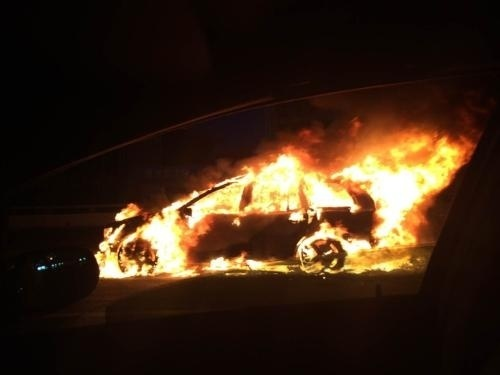fire: (99, 126, 462, 275)
